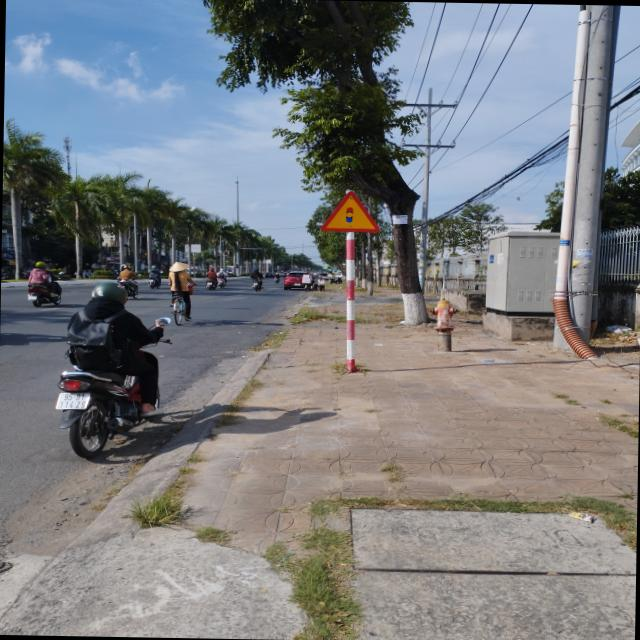Duong_Co_Go_Giam_Toc: (320, 190, 380, 232)
